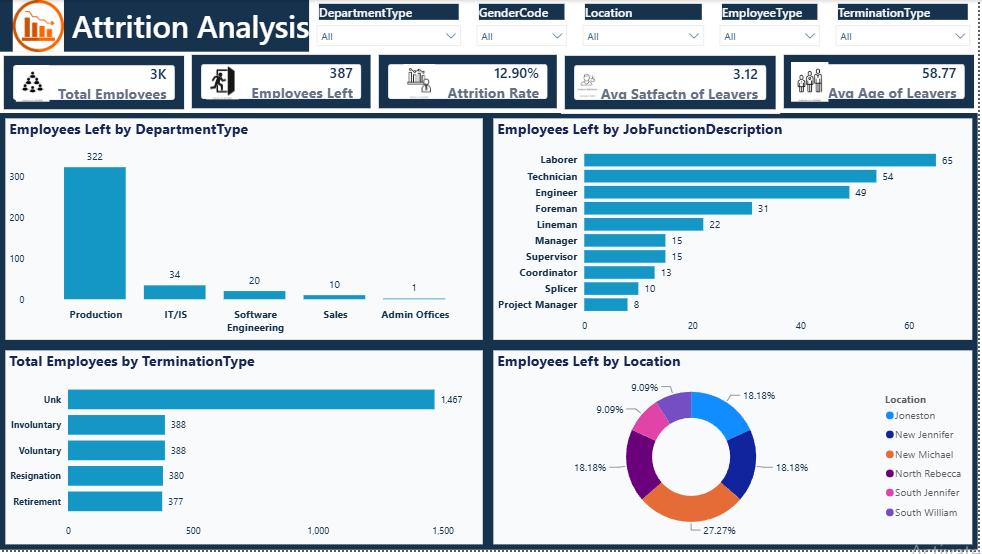

The page's visual inventory and layout, read from the dashboard file:
{"tool":"powerbi","page":{"name":"Attrition Analysis","canvas":[1280,720],"ordinal":2},"visuals":[{"type":"cardVisual","fields":{"Data":["All_Measures.Total Employees"]},"box":[0,67.7,246.2,80.6],"z":0},{"type":"clusteredColumnChart","fields":{"Category":["Messy_HR_Dataset_Detailed.DepartmentType"],"Y":["All_Measures.Employees Left"]},"box":[0,148.3,639.4,303.8],"z":1000},{"type":"clusteredBarChart","fields":{"Category":["Messy_HR_Dataset_Detailed.JobFunctionDescription"],"Y":["All_Measures.Employees Left"]},"box":[639.4,148.3,640.8,303.8],"z":2000},{"type":"barChart","fields":{"Category":["Messy_HR_Dataset_Detailed.TerminationType"],"Y":["All_Measures.Total Employees"]},"box":[0,452.2,639.4,267.8],"z":3000},{"type":"donutChart","fields":{"Series":["Messy_HR_Dataset_Detailed.Location"],"Y":["All_Measures.Employees Left"]},"box":[639.4,452.2,640.8,267.8],"z":4000},{"type":"slicer","fields":{"Values":["Messy_HR_Dataset_Detailed.DepartmentType"]},"box":[404.6,0,208.8,67.7],"z":5000},{"type":"slicer","fields":{"Values":["Messy_HR_Dataset_Detailed.GenderCode"]},"box":[613.4,0,138.2,67.7],"z":6000},{"type":"slicer","fields":{"Values":["Messy_HR_Dataset_Detailed.Location"]},"box":[753.1,0,178.6,67.7],"z":7000},{"type":"slicer","fields":{"Values":["Messy_HR_Dataset_Detailed.EmployeeType"]},"box":[931.7,0,151.2,67.7],"z":8000},{"type":"slicer","fields":{"Values":["Messy_HR_Dataset_Detailed.TerminationType"]},"box":[1084.3,0,195.8,67.7],"z":9000},{"type":"cardVisual","fields":{"Data":["All_Measures.Avg Age of Leavers"]},"box":[1021,66.2,259.2,80.6],"z":10000},{"type":"cardVisual","fields":{"Data":["All_Measures.Avg Satisfaction of Leavers"]},"box":[734.4,67.7,286.6,80.6],"z":11000},{"type":"cardVisual","fields":{"Data":["All_Measures.Attrition Rate"]},"box":[491,66.2,243.4,80.6],"z":12000},{"type":"cardVisual","fields":{"Data":["All_Measures.Employees Left"]},"box":[246.2,66.2,244.8,80.6],"z":13000},{"type":"shape","box":[0,0,404.6,67.7],"z":14000},{"type":"image","box":[15.8,0,69.1,67.7],"z":15000},{"type":"image","box":[263.5,85,56.2,44.6],"z":16000},{"type":"image","box":[509.8,83.5,79.2,44.6],"z":17000},{"type":"image","box":[15.8,85,54.7,47.5],"z":18000},{"type":"image","box":[1035.4,80.6,49,51.8],"z":19000},{"type":"image","box":[753.1,85,33.1,46.1],"z":20000}]}

Visuals, with their boxes in screenshot pixels (x1, y1, x2, y2), scaled from the page's 1280x720 canvas onto the 982x554 screenshot:
cardVisual - All_Measures.Total Employees: {"x1": 0, "y1": 52, "x2": 189, "y2": 114}
clusteredColumnChart - Messy_HR_Dataset_Detailed.DepartmentType x All_Measures.Employees Left: {"x1": 0, "y1": 114, "x2": 491, "y2": 348}
clusteredBarChart - Messy_HR_Dataset_Detailed.JobFunctionDescription x All_Measures.Employees Left: {"x1": 491, "y1": 114, "x2": 981, "y2": 348}
barChart - Messy_HR_Dataset_Detailed.TerminationType x All_Measures.Total Employees: {"x1": 0, "y1": 348, "x2": 491, "y2": 553}
donutChart - Messy_HR_Dataset_Detailed.Location x All_Measures.Employees Left: {"x1": 491, "y1": 348, "x2": 981, "y2": 553}
slicer - Messy_HR_Dataset_Detailed.DepartmentType: {"x1": 310, "y1": 0, "x2": 471, "y2": 52}
slicer - Messy_HR_Dataset_Detailed.GenderCode: {"x1": 471, "y1": 0, "x2": 577, "y2": 52}
slicer - Messy_HR_Dataset_Detailed.Location: {"x1": 578, "y1": 0, "x2": 715, "y2": 52}
slicer - Messy_HR_Dataset_Detailed.EmployeeType: {"x1": 715, "y1": 0, "x2": 831, "y2": 52}
slicer - Messy_HR_Dataset_Detailed.TerminationType: {"x1": 832, "y1": 0, "x2": 981, "y2": 52}
cardVisual - All_Measures.Avg Age of Leavers: {"x1": 783, "y1": 51, "x2": 981, "y2": 113}
cardVisual - All_Measures.Avg Satisfaction of Leavers: {"x1": 563, "y1": 52, "x2": 783, "y2": 114}
cardVisual - All_Measures.Attrition Rate: {"x1": 377, "y1": 51, "x2": 563, "y2": 113}
cardVisual - All_Measures.Employees Left: {"x1": 189, "y1": 51, "x2": 377, "y2": 113}
shape: {"x1": 0, "y1": 0, "x2": 310, "y2": 52}
image: {"x1": 12, "y1": 0, "x2": 65, "y2": 52}
image: {"x1": 202, "y1": 65, "x2": 245, "y2": 100}
image: {"x1": 391, "y1": 64, "x2": 452, "y2": 99}
image: {"x1": 12, "y1": 65, "x2": 54, "y2": 102}
image: {"x1": 794, "y1": 62, "x2": 832, "y2": 102}
image: {"x1": 578, "y1": 65, "x2": 603, "y2": 101}
